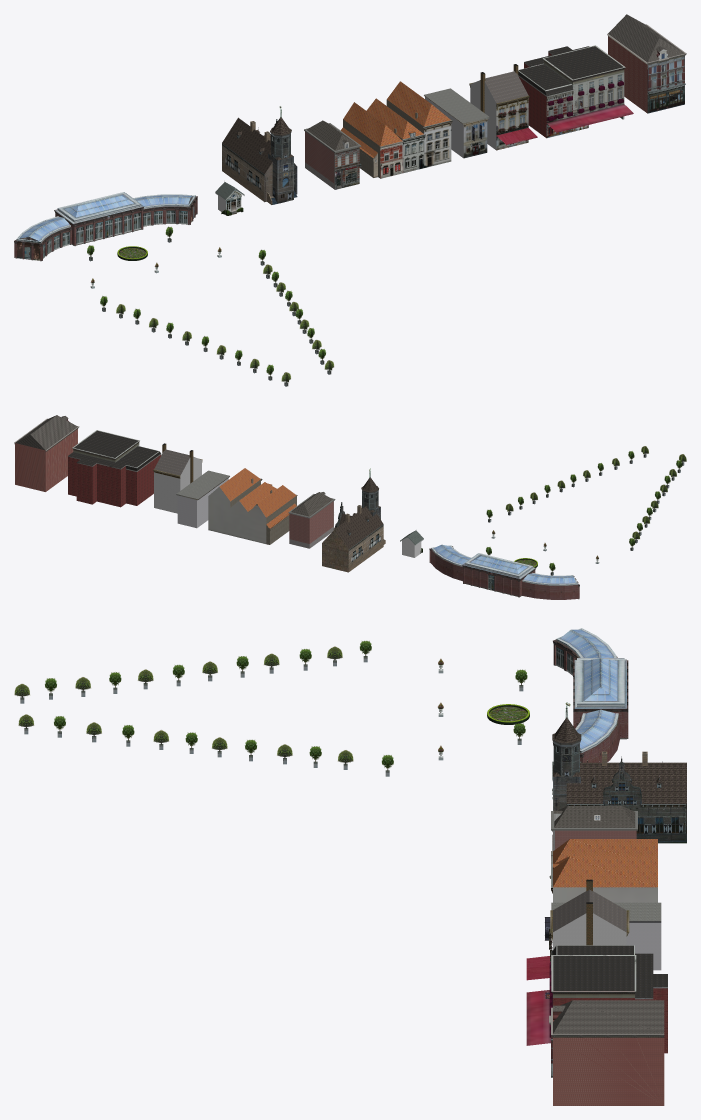
The model's file is european_pack.glb.
3 views of the same model, one above another, from view 1: azimuth 30°, elevation 25°; view 2: azimuth 150°, elevation 25°; view 3: azimuth 270°, elevation 25° (orthographic). The views are drawn at different scales.
Parts seen in each view (by area): view 1: group_7.001_656, group_4.005_140, group_5.003_184, group_4.007_142, group_5.018_199, group_6.015_303, group_2.004_89, group_4.008_143, group_6.019_307, group_2.005_90, group_2.001_86, group_0.001_23 (+17 smaller); view 2: group_5.007_188, group_4.007_142, group_2.005_90, group_6.019_307, group_3_126, group_1.006_61, group_4.005_140, group_6.015_303, group_5.018_199, group_0.003_25, group_7_655, instance_315.011_559 (+12 smaller); view 3: group_4.007_142, group_4.005_140, group_6.015_303, group_2.004_89, group_5.018_199, group_6.013_301, group_2.001_86, group_1.003_58, group_3.007_133, group_3_126, group_2.005_90, group_5.019_200 (+8 smaller).
Part boxes in pixels (x1=…): group_7.001_656: x1=55, y1=192, x2=142, y2=245; group_4.005_140: x1=608, y1=14, x2=684, y2=62; group_5.003_184: x1=573, y1=69, x2=624, y2=116; group_4.007_142: x1=608, y1=36, x2=647, y2=113; group_5.018_199: x1=544, y1=46, x2=623, y2=79; group_6.015_303: x1=222, y1=117, x2=272, y2=173; group_2.004_89: x1=387, y1=81, x2=450, y2=126; group_4.008_143: x1=607, y1=34, x2=686, y2=93; group_6.019_307: x1=222, y1=143, x2=264, y2=201; group_2.005_90: x1=423, y1=120, x2=452, y2=167; group_2.001_86: x1=343, y1=102, x2=402, y2=146; group_0.001_23: x1=424, y1=88, x2=488, y2=123; group_5.007_188: x1=68, y1=455, x2=160, y2=507; group_4.007_142: x1=15, y1=429, x2=77, y2=491; group_2.005_90: x1=208, y1=479, x2=266, y2=543; group_6.019_307: x1=322, y1=524, x2=383, y2=572; group_3_126: x1=154, y1=456, x2=201, y2=513; group_1.006_61: x1=289, y1=501, x2=333, y2=543; group_4.005_140: x1=15, y1=415, x2=77, y2=450; group_6.015_303: x1=335, y1=506, x2=383, y2=549; group_5.018_199: x1=74, y1=430, x2=138, y2=457; group_0.003_25: x1=177, y1=478, x2=228, y2=528; group_7_655: x1=464, y1=565, x2=535, y2=596; instance_315.011_559: x1=522, y1=582, x2=578, y2=599; group_4.007_142: x1=553, y1=1037, x2=664, y2=1105; group_4.005_140: x1=553, y1=1000, x2=664, y2=1034; group_6.015_303: x1=566, y1=762, x2=686, y2=803; group_2.004_89: x1=553, y1=857, x2=657, y2=887; group_5.018_199: x1=553, y1=956, x2=634, y2=990; group_6.013_301: x1=566, y1=804, x2=686, y2=843; group_2.001_86: x1=553, y1=839, x2=657, y2=863; group_1.003_58: x1=553, y1=806, x2=635, y2=827; group_3.007_133: x1=553, y1=889, x2=626, y2=932; group_3_126: x1=553, y1=913, x2=626, y2=949; group_2.005_90: x1=551, y1=887, x2=657, y2=902; group_5.019_200: x1=526, y1=990, x2=552, y2=1045.
Bounding box in the file's own units: 148 × 19.88 × 92.79.
98 materials, 97 textured.
